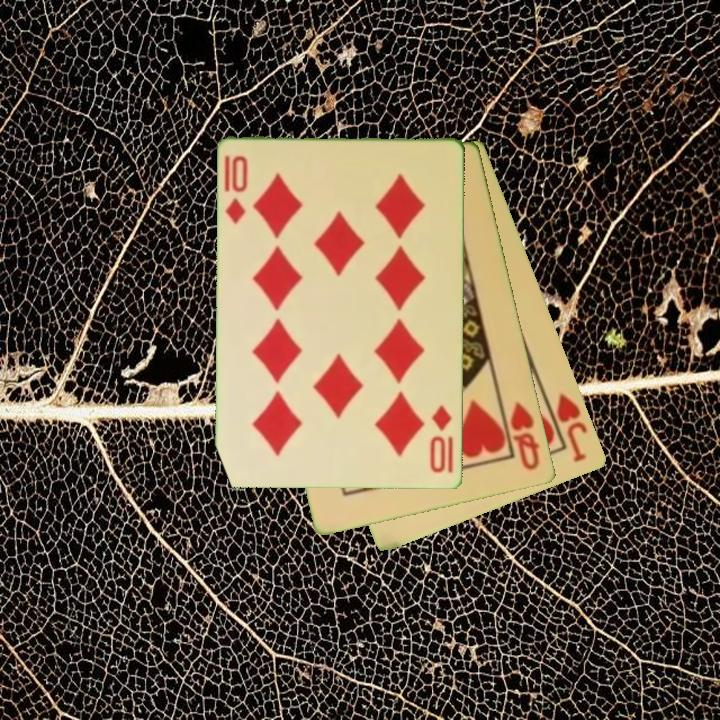10d: (222, 153, 251, 228), (427, 402, 456, 476)
Jh: (553, 389, 591, 466)
Qh: (507, 398, 543, 473)
